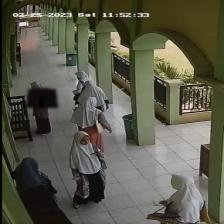Cadar_Niqab: (26, 79, 57, 107)
